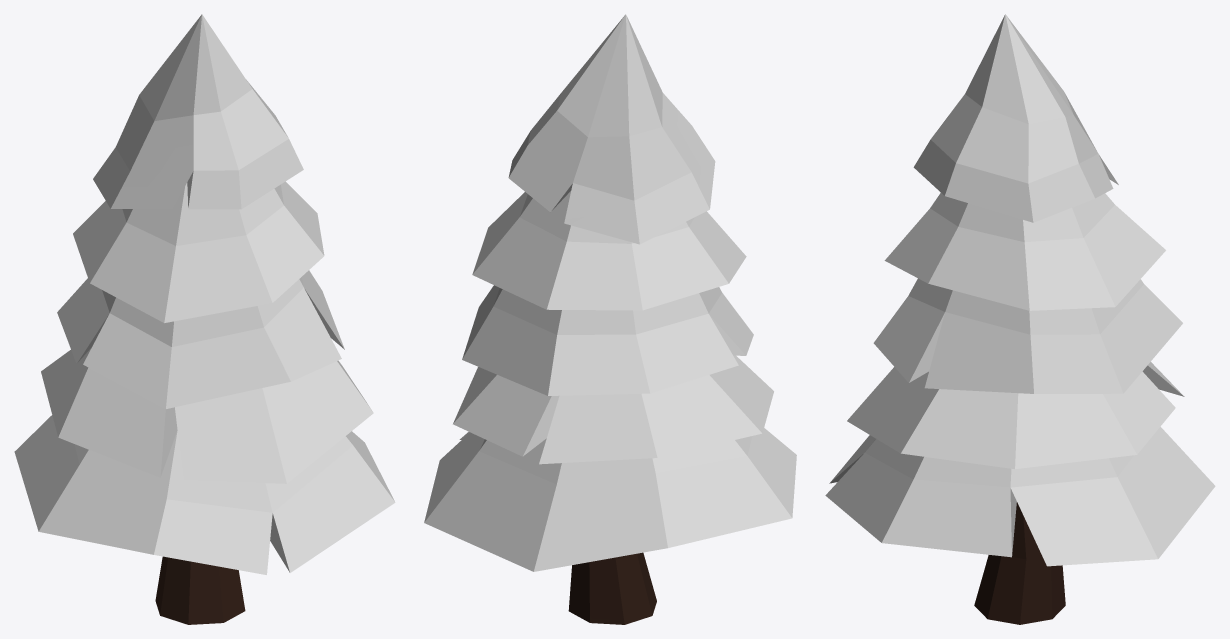
File: big_snow_tree.fbx
The picture shows the model from 3 angles, left to right: view 1: azimuth 30°, elevation 25°; view 2: azimuth 150°, elevation 25°; view 3: azimuth 270°, elevation 25°; orthographic projection.
Parts seen in each view (by area): view 1: conifer7_Cylinder.002; view 2: conifer7_Cylinder.002; view 3: conifer7_Cylinder.002.
Boxes of the visible parts, <box> form: conifer7_Cylinder.002: <box>14,14,395,624</box>; conifer7_Cylinder.002: <box>424,14,796,624</box>; conifer7_Cylinder.002: <box>825,14,1215,624</box>.
Bounding box in the file's own units: 906 × 1549 × 930.
